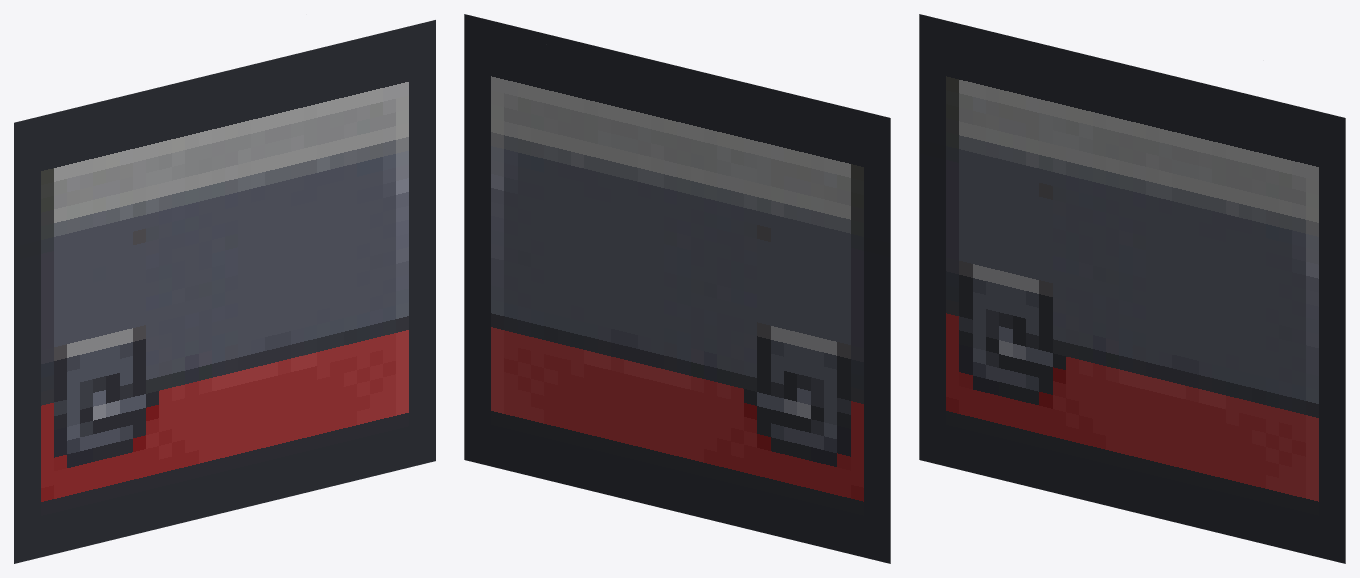
File: Door_H_Red.glb
The picture shows the model from 3 angles, left to right: view 1: azimuth 30°, elevation 25°; view 2: azimuth 150°, elevation 25°; view 3: azimuth 330°, elevation 25°; orthographic projection.
Visible parts, largest first — view 1: pPlane6; view 2: pPlane6; view 3: pPlane6.
Boxes of the visible parts, box(x1,y1,x2,y2) form: pPlane6: box(14, 20, 435, 563); pPlane6: box(464, 14, 890, 563); pPlane6: box(919, 14, 1345, 563).
Bounding box in the file's own units: 1 × 1.03 × 0.1.
Materials: 2 (2 with a texture image).
